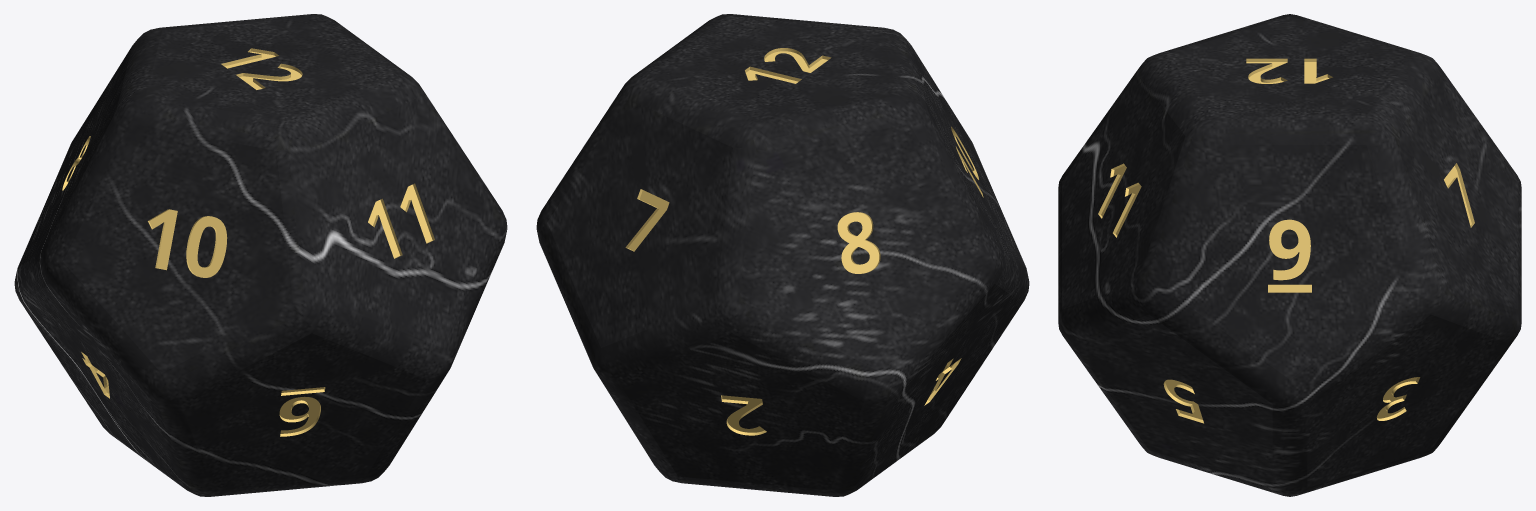
3 views of the same model, side by side, from view 1: azimuth 30°, elevation 25°; view 2: azimuth 150°, elevation 25°; view 3: azimuth 270°, elevation 25° (orthographic). The views are drawn at different scales.
Visible parts, largest first — view 1: body.001; view 2: body.001; view 3: body.001.
Boxes of the visible parts, left/top/right/bottom form: body.001: left=14, top=14, right=507, bottom=496; body.001: left=536, top=14, right=1029, bottom=496; body.001: left=1058, top=14, right=1521, bottom=496.
Bounding box in the file's own units: 0.9496 × 0.7947 × 0.9065.
Materials: 2 (1 with a texture image).
